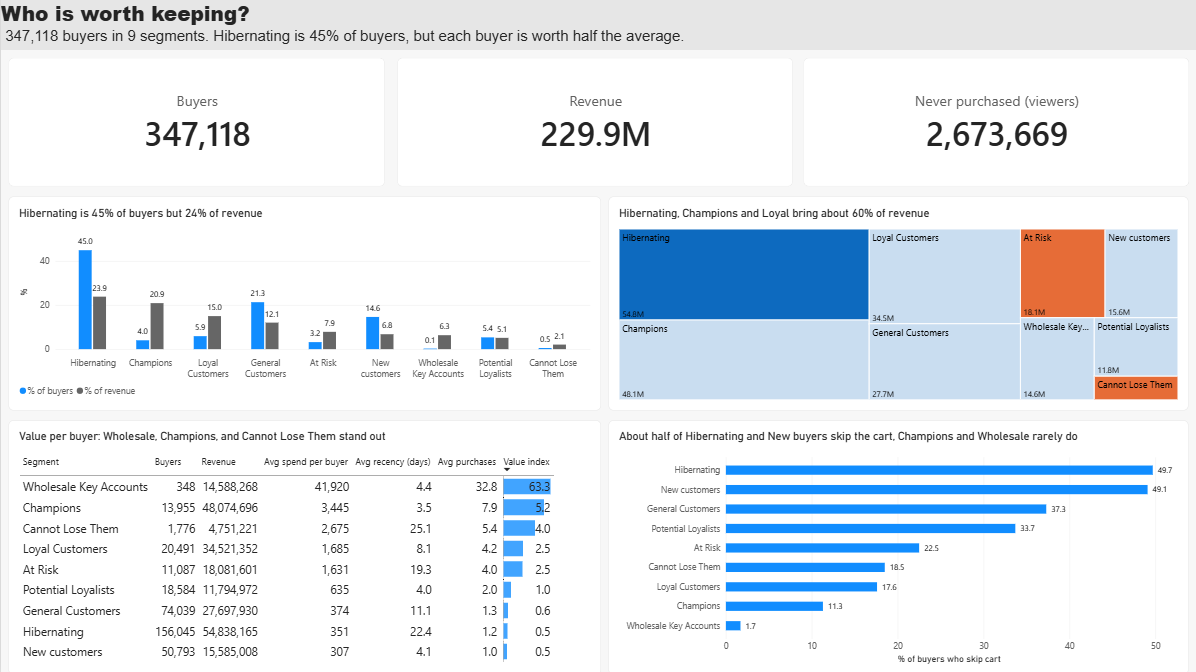

The page's visual inventory and layout, read from the dashboard file:
{"tool":"powerbi","page":{"name":"2- Segments","canvas":[1920,1080],"ordinal":1},"visuals":[{"type":"textbox","box":[0,0,1920.1,81.4],"z":0},{"type":"cardVisual","fields":{"Data":["v_overall_funnel.Buyers"]},"box":[12.7,94.1,602.6,206.3],"z":1000},{"type":"cardVisual","fields":{"Data":["v_user_paths.Never purchased (viewers)"]},"box":[1283,94.1,617.1,206.3],"z":2000},{"type":"cardVisual","fields":{"Data":["v_overall_funnel.Revenue"]},"box":[633.4,94.1,633.4,206.3],"z":3000},{"type":"clusteredColumnChart","title":"Hibernating is 45% of buyers but 24% of revenue","fields":{"Category":["v_rfm_dashboard_summary.customer_segment"],"Y":["Sum(v_rfm_dashboard_summary.pct_customers)","Sum(v_rfm_dashboard_summary.pct_revenue)"]},"box":[12.7,316.7,948.3,342],"z":4000},{"type":"treemap","title":"Hibernating, Champions and Loyal bring about 60% of revenue","fields":{"Group":["v_rfm_dashboard_summary.customer_segment"],"Values":["Sum(v_rfm_dashboard_summary.total_revenue)"]},"box":[971.8,316.7,928.4,342],"z":5000},{"type":"tableEx","title":"Value per buyer: Wholesale, Champions, and Cannot Lose Them stand out","fields":{"Values":["v_rfm_dashboard_summary.customer_segment","v_overall_funnel.Buyers","v_overall_funnel.Revenue","Sum(v_rfm_dashboard_summary.avg_monetary_spend)","Sum(v_rfm_dashboard_summary.avg_recency_days)","Sum(v_rfm_dashboard_summary.avg_frequency)","v_overall_funnel.Value index"]},"box":[12.7,673.2,948.3,407.2],"z":6000},{"type":"clusteredBarChart","title":"About half of Hibernating and New buyers skip the cart, Champions and Wholesale rarely do","fields":{"Category":["v_segment_purchase_path.customer_segment"],"Y":["Sum(v_segment_purchase_path.pct_skip_cart)"]},"box":[972,673,928,407],"z":6001}]}

Visuals, with their boxes in screenshot pixels (x1, y1, x2, y2), scaled from the page's 1920x1080 canvas onto the 1196x672 screenshot:
textbox: detection(0, 0, 1195, 51)
cardVisual - v_overall_funnel.Buyers: detection(8, 59, 383, 187)
cardVisual - v_user_paths.Never purchased (viewers): detection(799, 59, 1184, 187)
cardVisual - v_overall_funnel.Revenue: detection(395, 59, 789, 187)
"Hibernating is 45% of buyers but 24% of revenue" clusteredColumnChart: detection(8, 197, 599, 410)
"Hibernating, Champions and Loyal bring about 60% of revenue" treemap: detection(605, 197, 1184, 410)
"Value per buyer: Wholesale, Champions, and Cannot Lose Them stand out" tableEx: detection(8, 419, 599, 671)
"About half of Hibernating and New buyers skip the cart, Champions and Wholesale rarely do" clusteredBarChart: detection(605, 419, 1184, 671)
